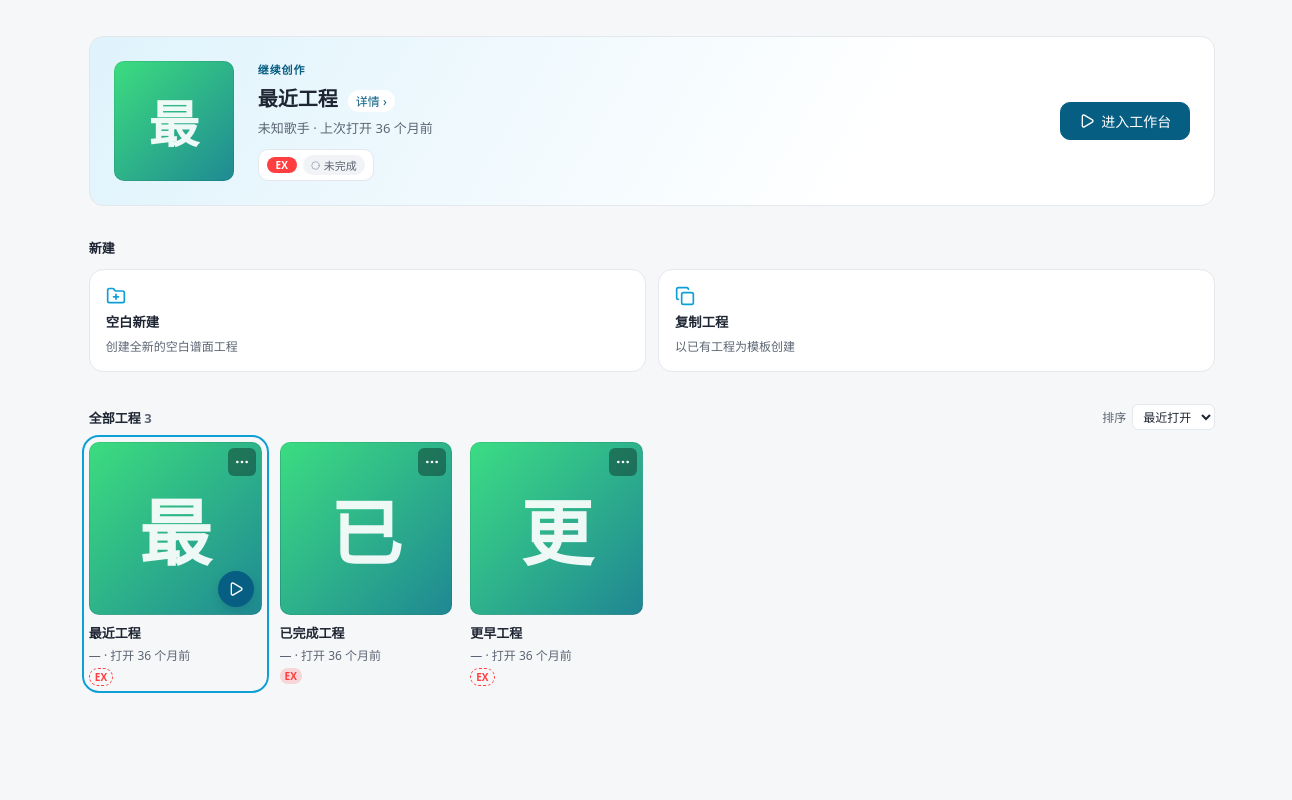
Scenario: issue 14 · 工程卡片网格方向键导航与横幅跟随 › 双击卡片打开该工程详情
Expected: the heading "最近工程 详情 ›" is shown, [258,85,395,112]
Expected: the element that starts with "最近工程" is shown, [89,442,643,686]
Double-click the element showing "更 更早工程 — · 打开 36 个月前 EX" at (557,564), box [470,442,643,686]
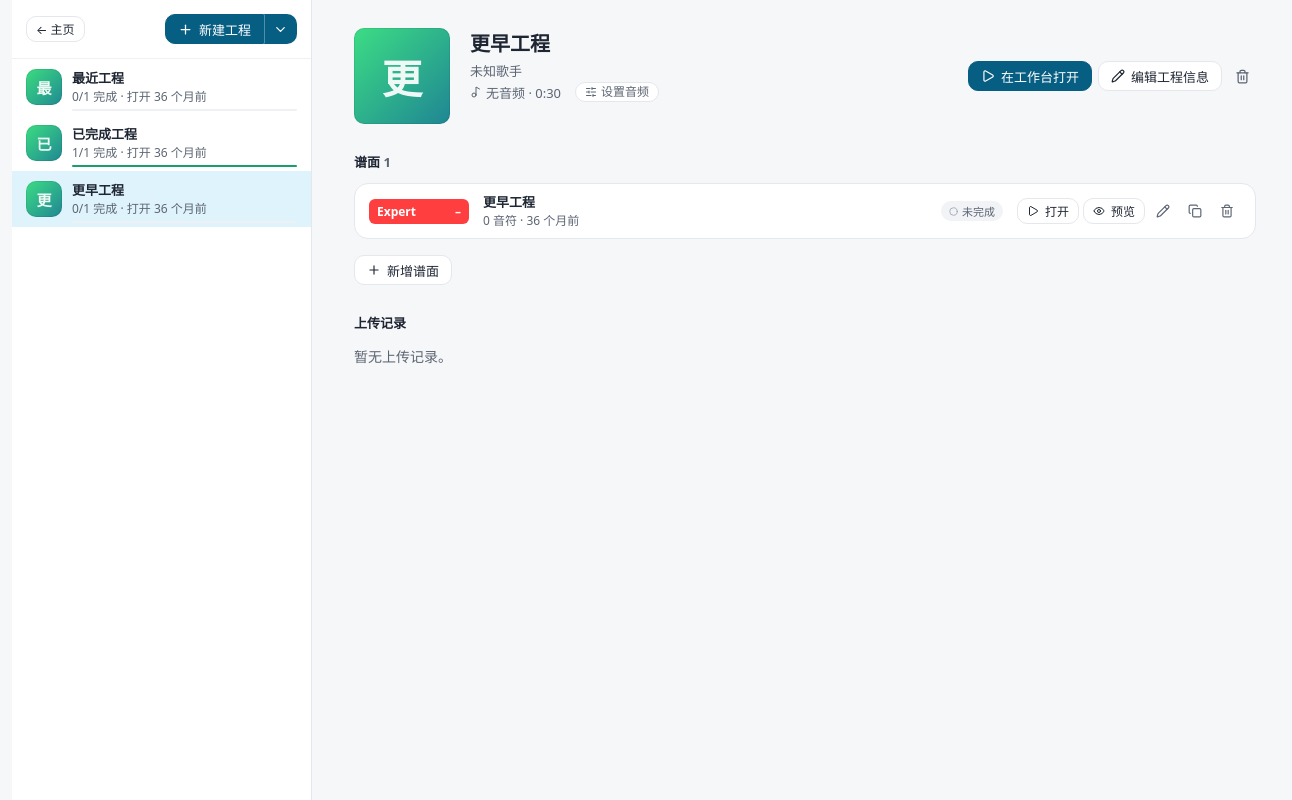
Expected: the heading "更早工程" is shown, [470,30,550,57]
